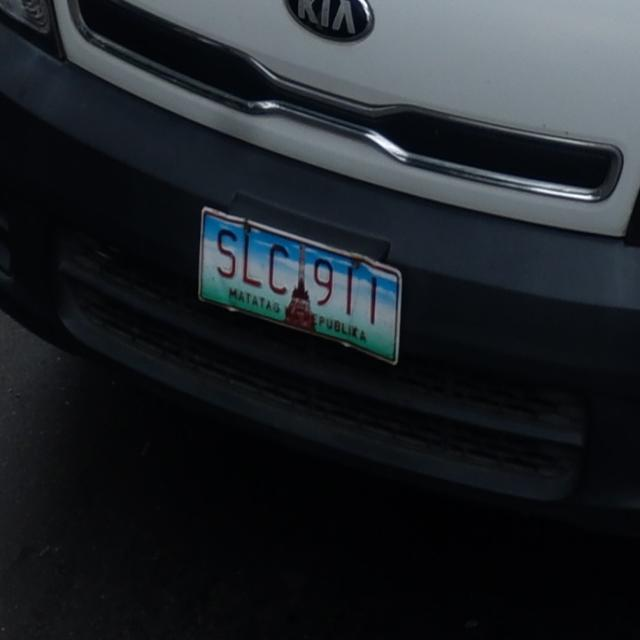LicensePlate: (186, 196, 425, 377)
